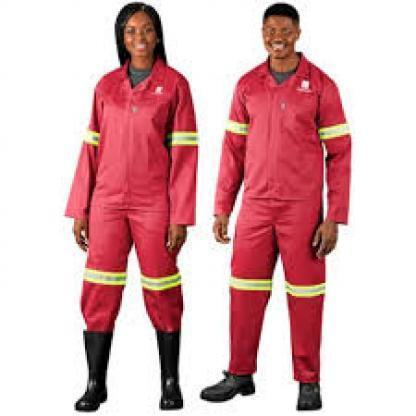vest: (219, 56, 358, 362), (71, 66, 209, 314)
